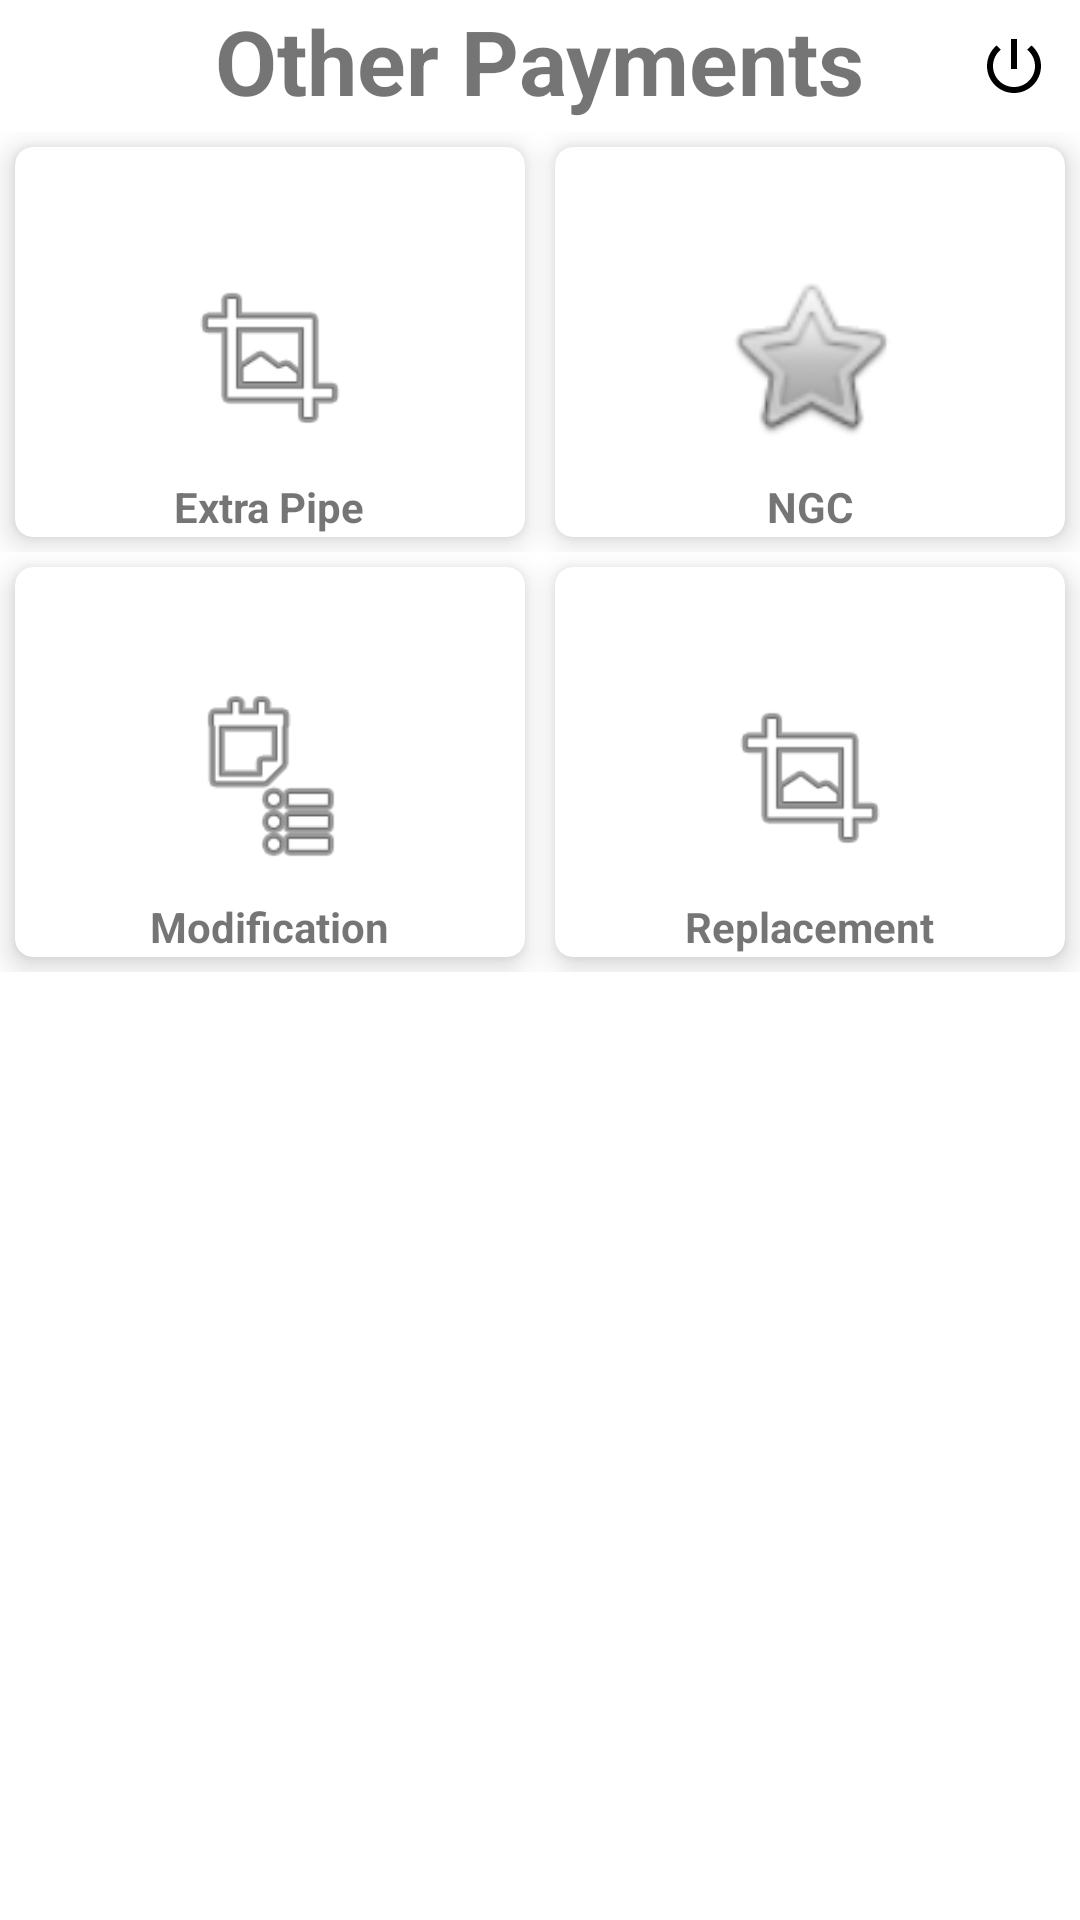

Named icons in this screenshot (1080px×1920px) and their centers, (x=x, y=y):
agenda: (x=271, y=776)
crop: (x=270, y=358), (x=810, y=778)
star: (x=811, y=358)
